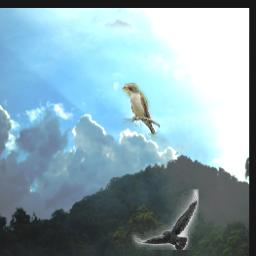Crow: (132, 190, 200, 251)
Cuckoo: (123, 84, 161, 142)
